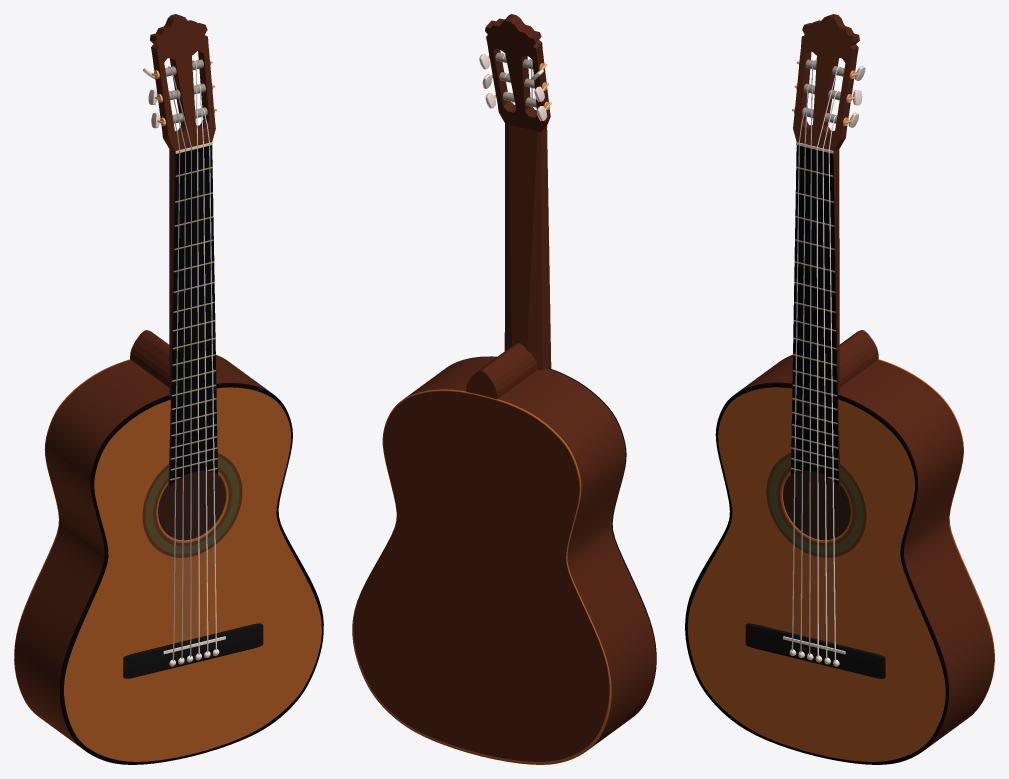
The model's file is chitarra2finita.fbx.
The picture shows the model from 3 angles, left to right: view 1: azimuth 30°, elevation 25°; view 2: azimuth 150°, elevation 25°; view 3: azimuth 330°, elevation 25°; orthographic projection.
Parts seen in each view (by area): view 1: Circle.001, Plane.002, Cylinder.005, Circle.004, Cube.002, Cylinder.012, Cube.001; view 2: Circle.001, Plane.002, Cube.001; view 3: Circle.001, Plane.002, Cylinder.005, Circle.004, Cube.002, Cylinder.012, Cube.001.
Boxes of the visible parts, x1,y1,x2,y2 form: Circle.001: (14,355,323,764); Plane.002: (150,14,217,485); Cylinder.005: (168,60,216,661); Circle.004: (158,470,225,540); Cube.002: (123,623,263,678); Cylinder.012: (170,167,217,480); Cube.001: (130,330,169,387); Circle.001: (352,356,656,764); Plane.002: (485,14,551,369); Cube.001: (466,343,536,399); Circle.001: (685,354,994,764); Plane.002: (791,14,859,485); Cylinder.005: (791,60,840,661); Circle.004: (783,470,850,540); Cube.002: (745,623,885,678); Cylinder.012: (791,167,838,480); Cube.001: (839,330,878,387).
Bounding box in the file's own units: 172 × 456 × 57.01.
